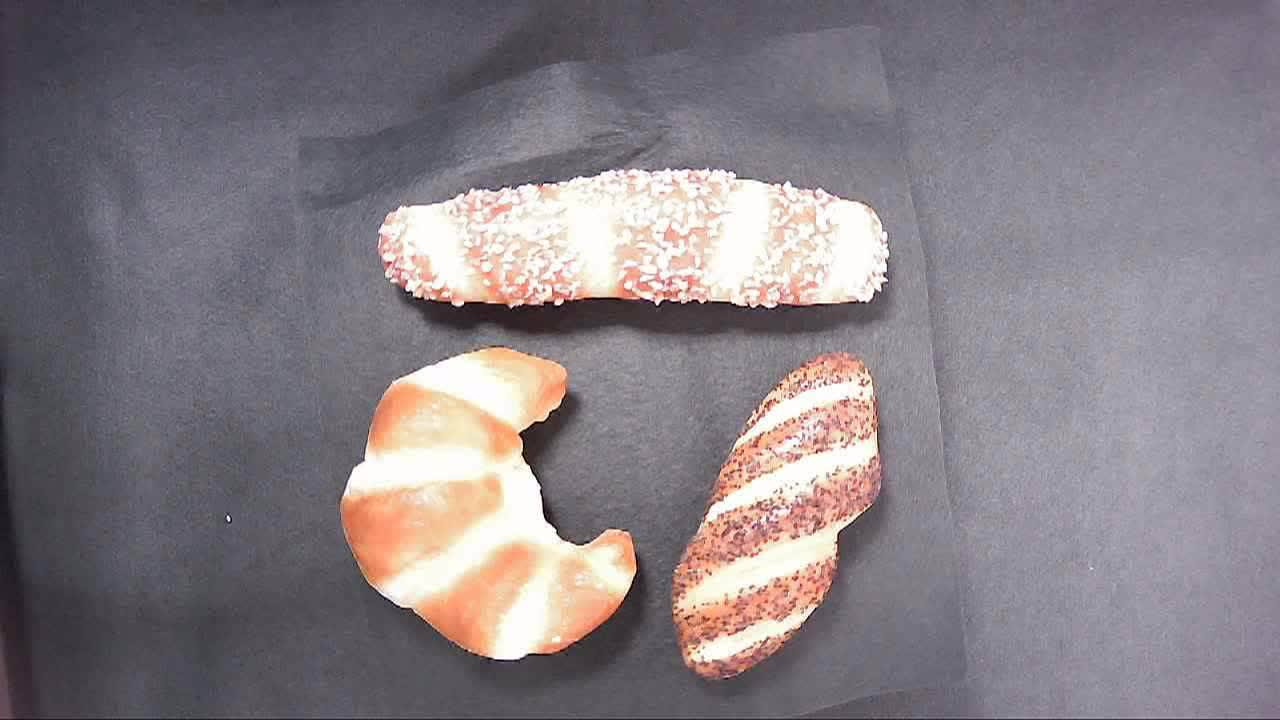cow: (338, 340, 642, 662)
long: (369, 162, 903, 323)
slash: (673, 347, 888, 689)
